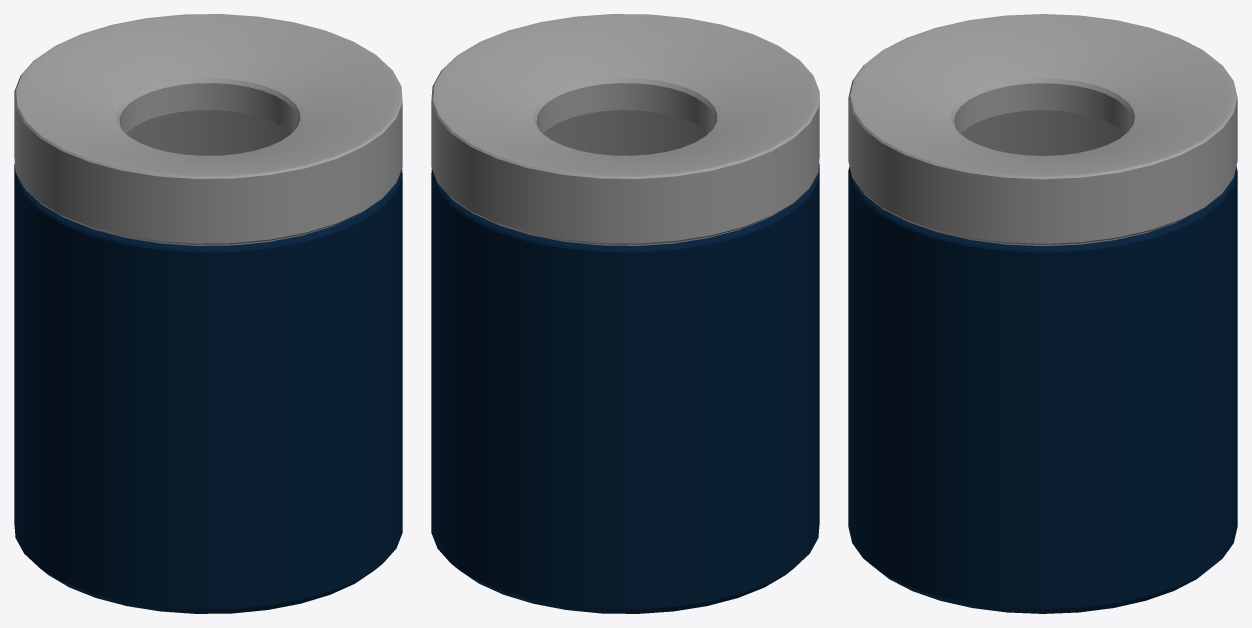
Rendered from dustbin-fbx.FBX.
3 views of the same model, side by side, from view 1: azimuth 30°, elevation 25°; view 2: azimuth 150°, elevation 25°; view 3: azimuth 270°, elevation 25° (orthographic).
Visible parts, largest first — view 1: trashcan; view 2: trashcan; view 3: trashcan.
Boxes of the visible parts, left/top/right/bottom form: trashcan: left=14, top=14, right=402, bottom=613; trashcan: left=431, top=14, right=819, bottom=613; trashcan: left=848, top=14, right=1237, bottom=613.
Bounding box in the file's own units: 40.03 × 50 × 40.03.
